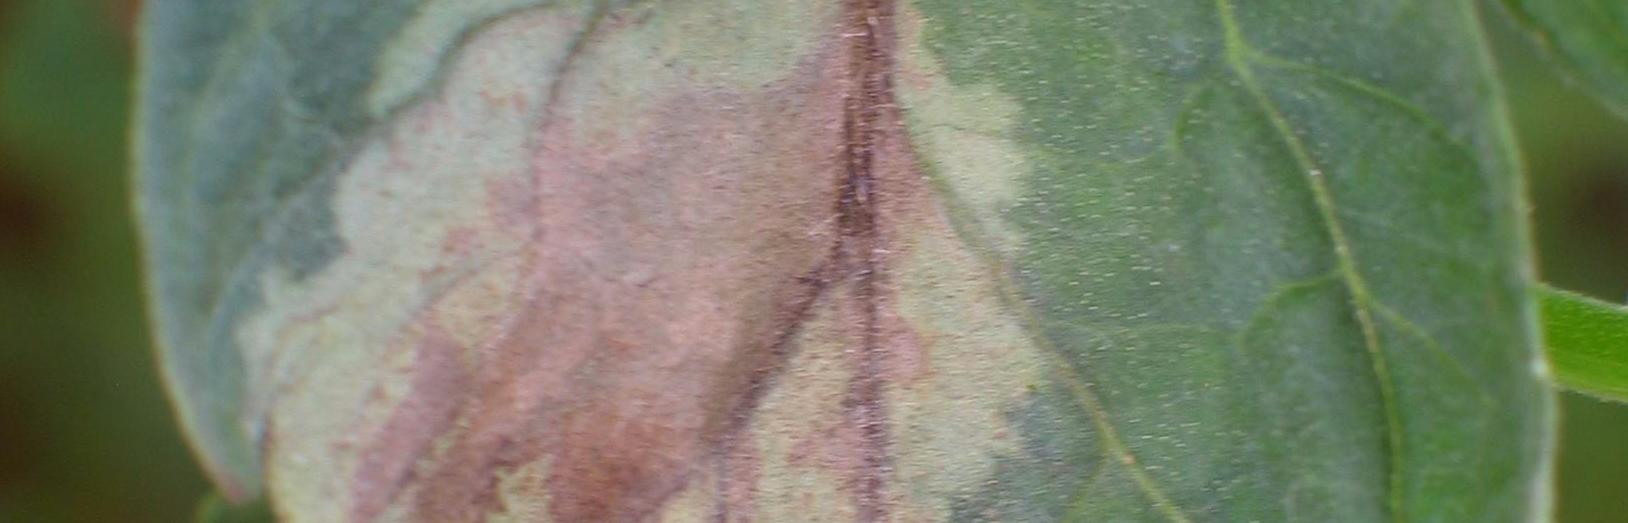Tomato leaf late blight: (7, 0, 1628, 523)
